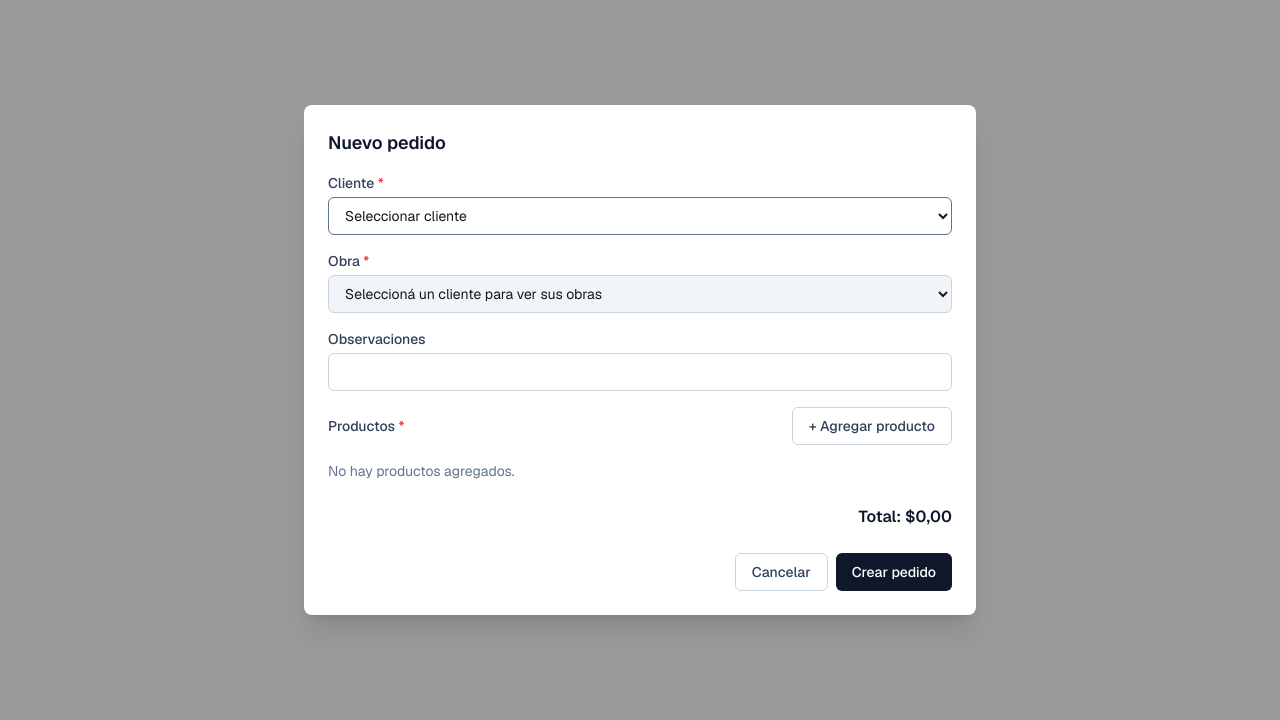
Scenario: formulario de pedido: informa si no pudo cargar los catalogos › si fallan las obras del cliente lo avisa junto al selector
The image size is (1280, 720).
Select "Constructora Sur" in the dropdown labelled "Cliente *" at (640, 216), box [328,197,952,235]
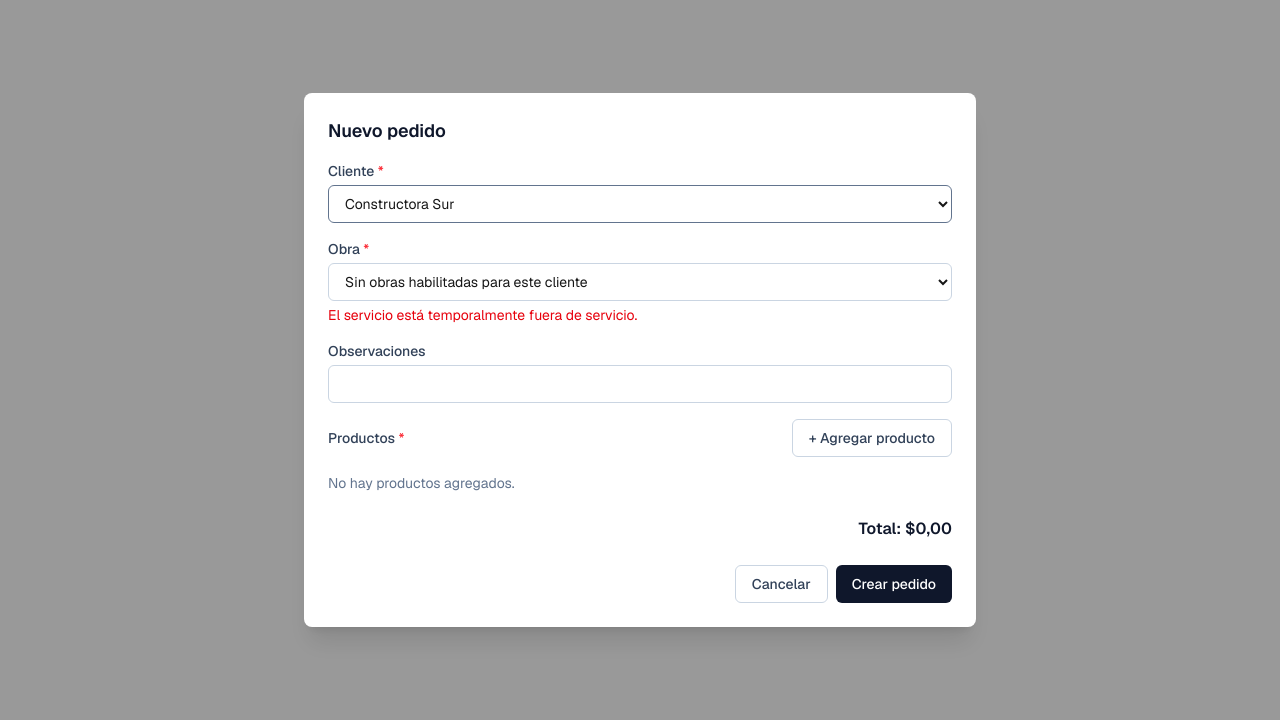
Expected: the text "El servicio está temporalmente fuera de servicio." is shown, [328,306,637,324]
